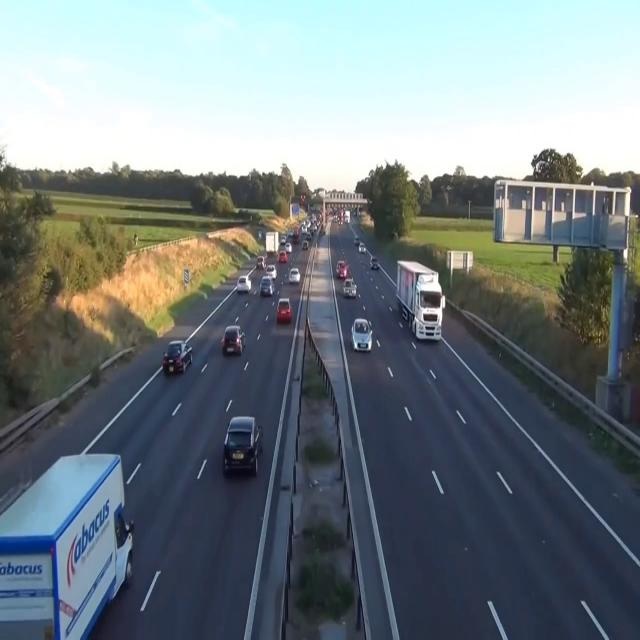belum terisi: (2, 424, 140, 638), (393, 252, 455, 352), (214, 408, 271, 490), (347, 308, 378, 359), (160, 334, 195, 379), (218, 318, 249, 363), (272, 289, 294, 329), (235, 274, 256, 296), (342, 274, 358, 299)
